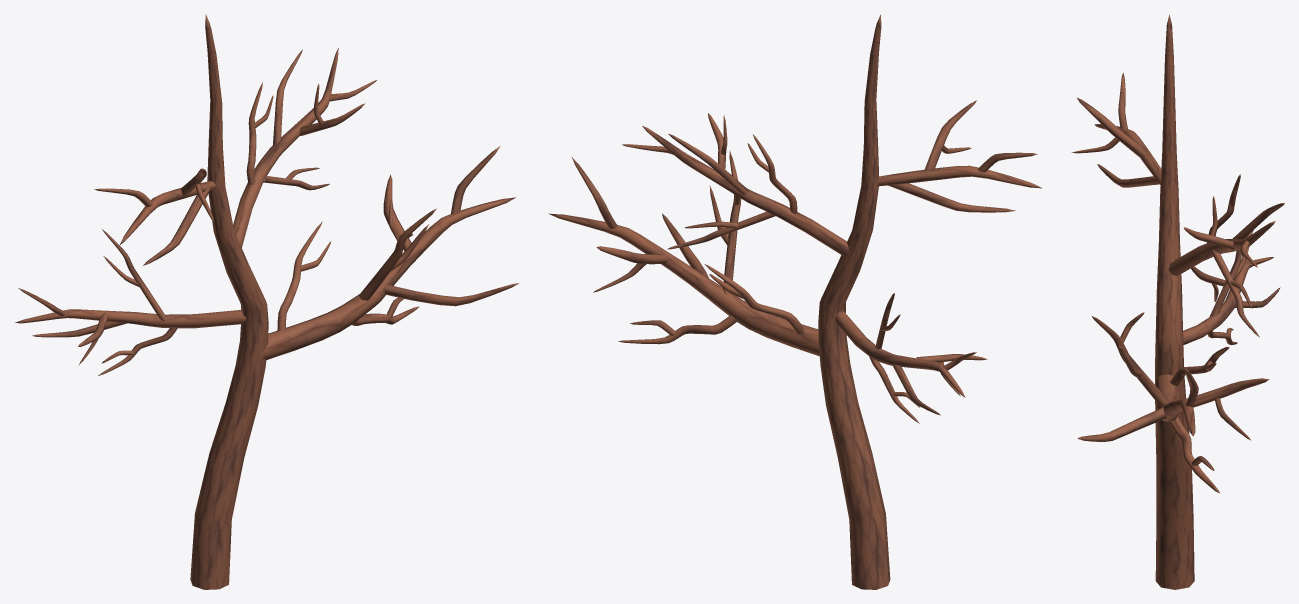
Rendered from quaternius-ultimate-stylized-nature-dead-tree-3.glb.
3 renders of one model, left to right at view 1: azimuth 30°, elevation 25°; view 2: azimuth 150°, elevation 25°; view 3: azimuth 270°, elevation 25°, orthographic.
Parts seen in each view (by area): view 1: DeadTree_3; view 2: DeadTree_3; view 3: DeadTree_3.
Boxes of the visible parts, box(x1,y1,x2,y2) form: DeadTree_3: box(15, 14, 518, 589); DeadTree_3: box(548, 14, 1041, 589); DeadTree_3: box(1071, 14, 1284, 589).
Size of the model in its own units: 4.22 by 4.96 by 1.7.
1 material, 1 textured.
